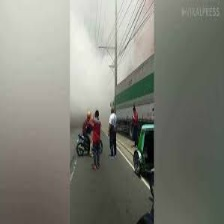smoke: (73, 33, 110, 93)
